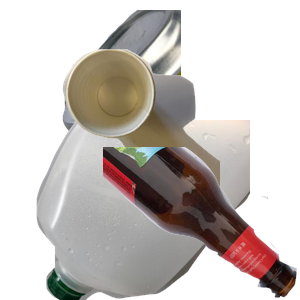glass: (103, 147, 300, 300)
metal: (60, 10, 300, 190)
plastic: (34, 120, 274, 300)
trash: (60, 47, 300, 227)
